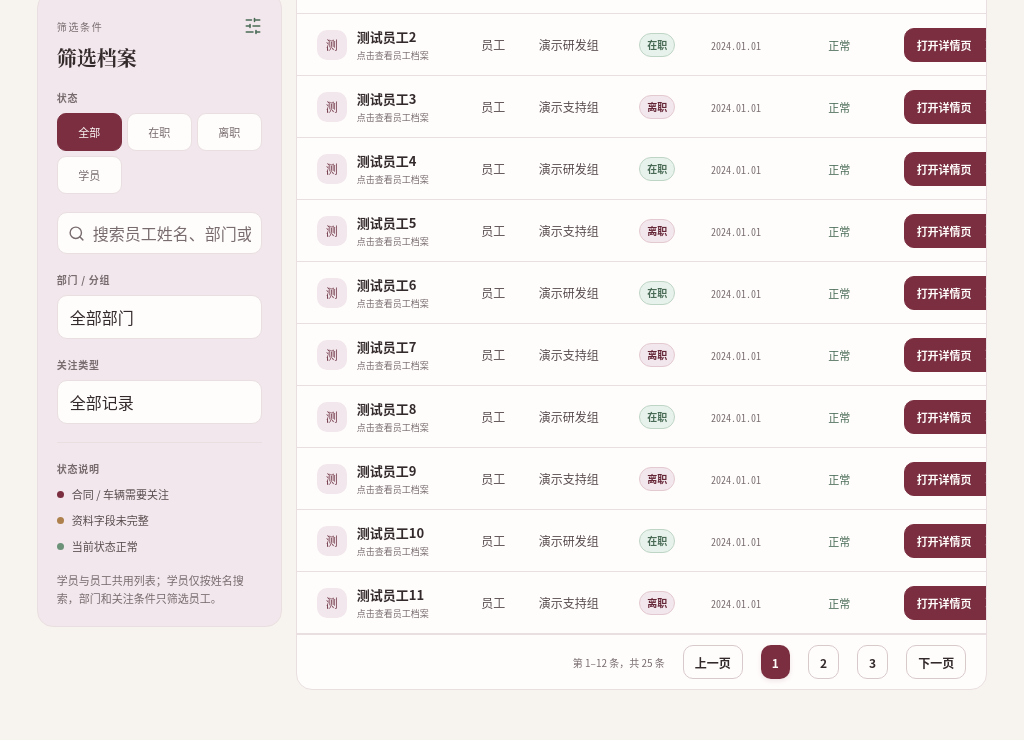
Test: 员工档案列表分页 › shows 12 rows and resets to page one after filtering
(page scrolled)
Click the button named "第3页".
click(873, 662)  # box [857,645,888,679]
(page scrolled)
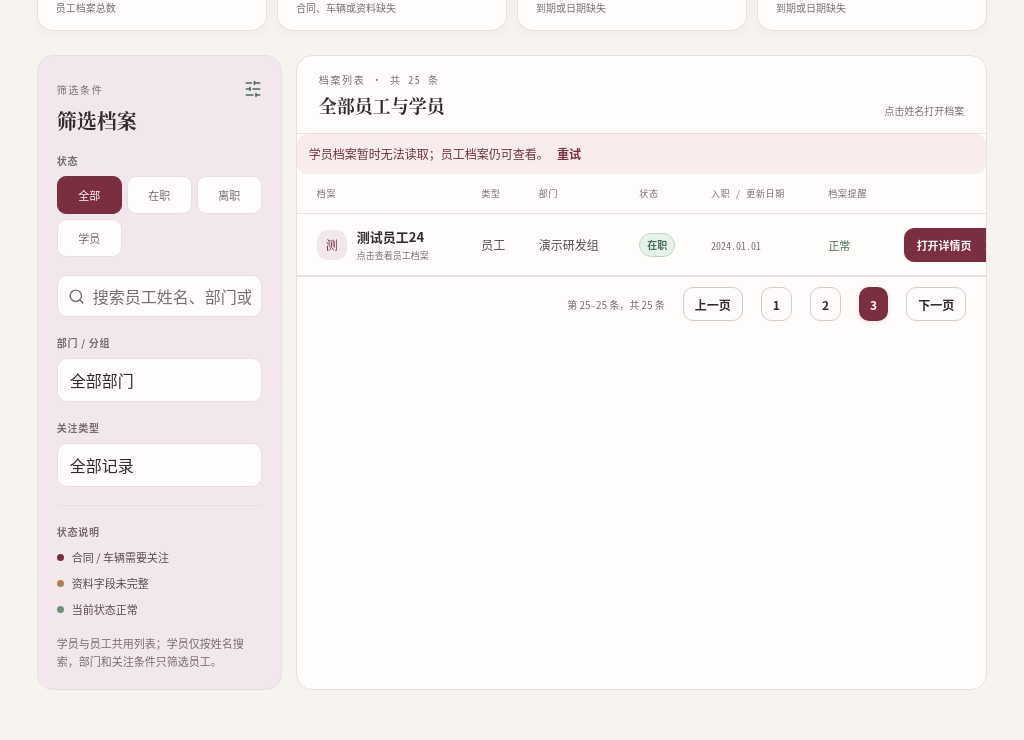
Result: the text "测试员工24" is shown at [357,227,429,246]
Click the button "离职".
click(229, 195)  # box [197,176,262,214]
(page scrolled)
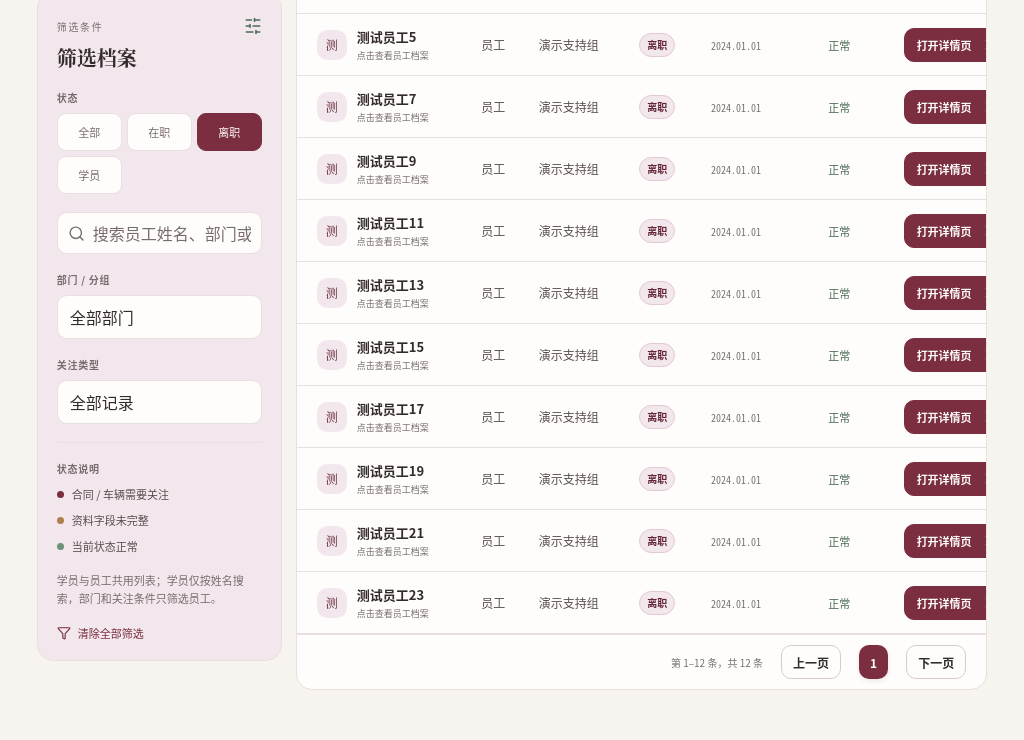
Result: the text "第 1–12 条，共 12 条" is shown at [671,655,763,670]
Result: the text "测试员工1" is shown at [357,213,424,232]
Result: the text "测试员工24" is gone
